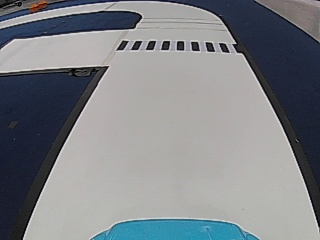CrossWalk: (117, 39, 240, 55)
